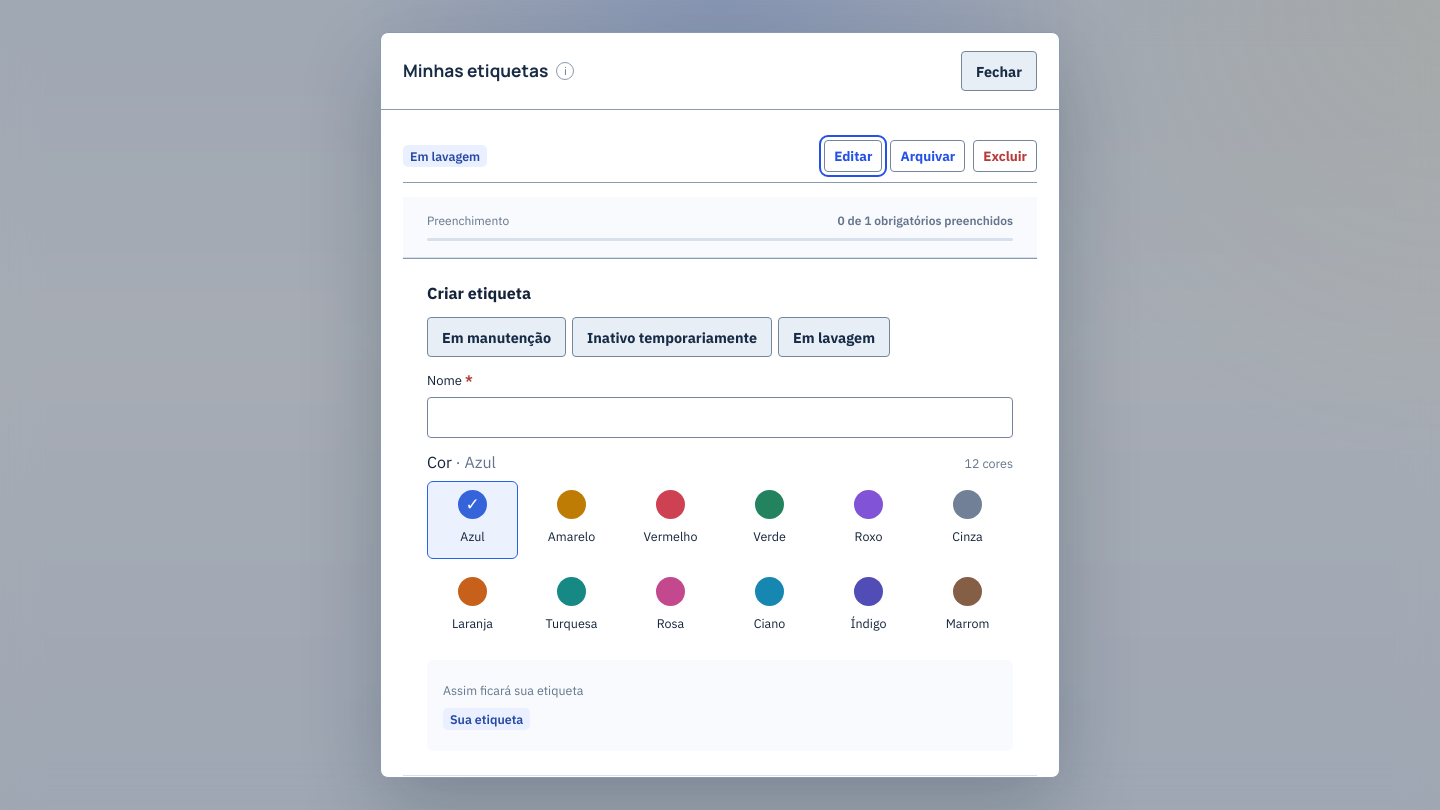
requires explicit confirmation to delete, allows cancellation and clears the editing form
The width and height of the screenshot is (1440, 810).
Click the button "Excluir" at (1005, 156), box [973,140,1037,172]
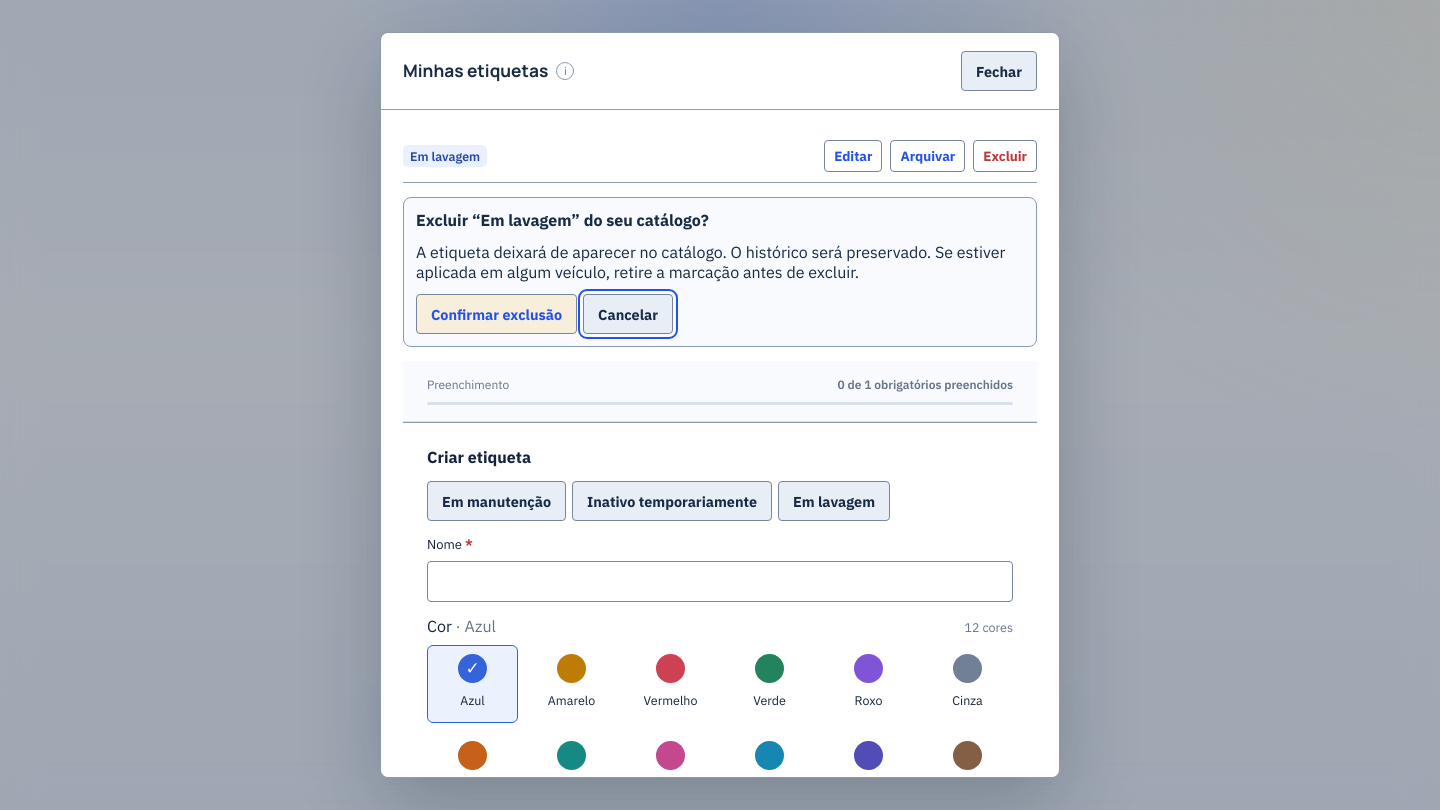
Expected: the element named "Excluir etiqueta Em lavagem" shows "histórico será preservado", [416,242,1005,282]
Click the button "Cancelar" at (628, 314), box [583,294,673,334]
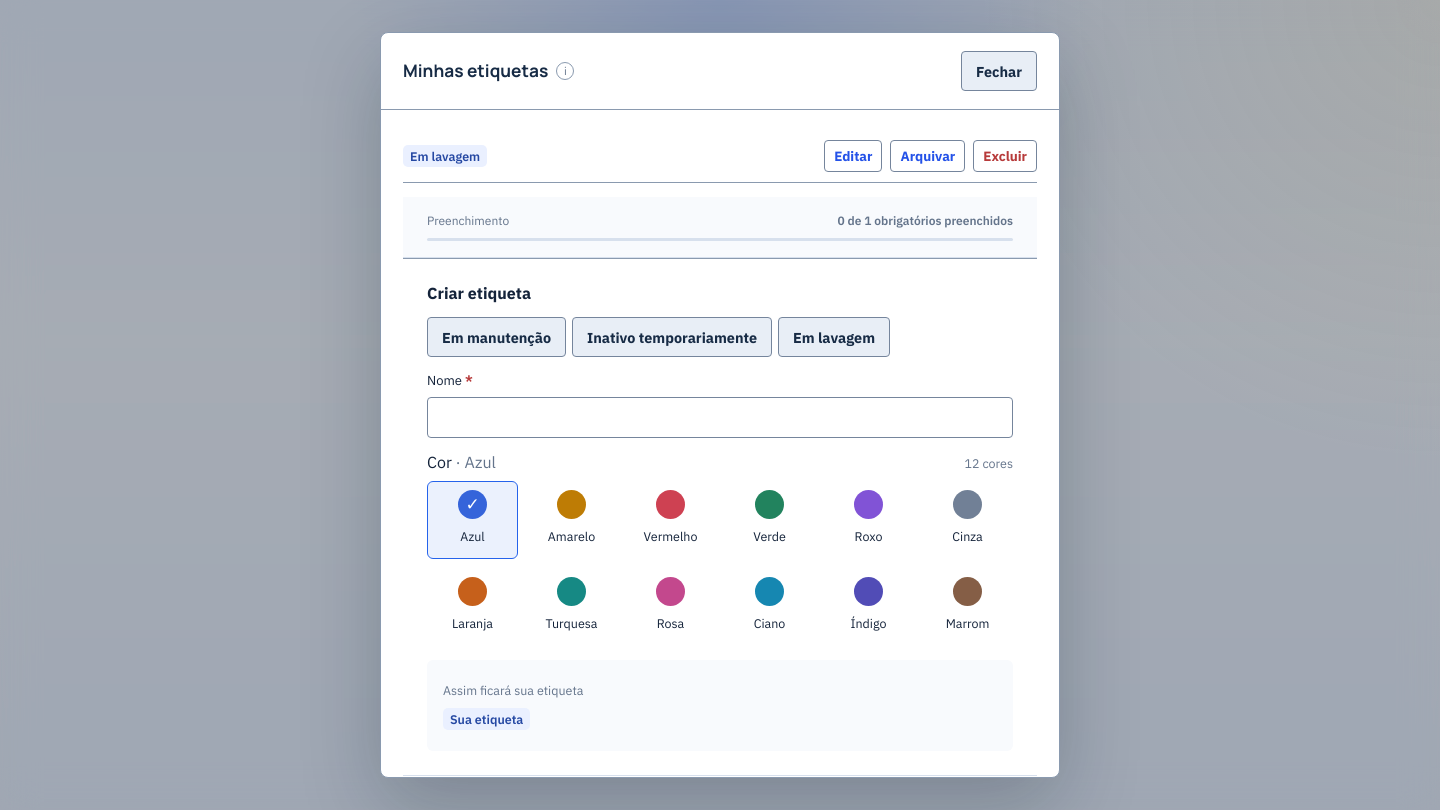
Expected: the button "Confirmar exclusão" is gone
Click the button "Editar" at (853, 156), box [824,140,882,172]
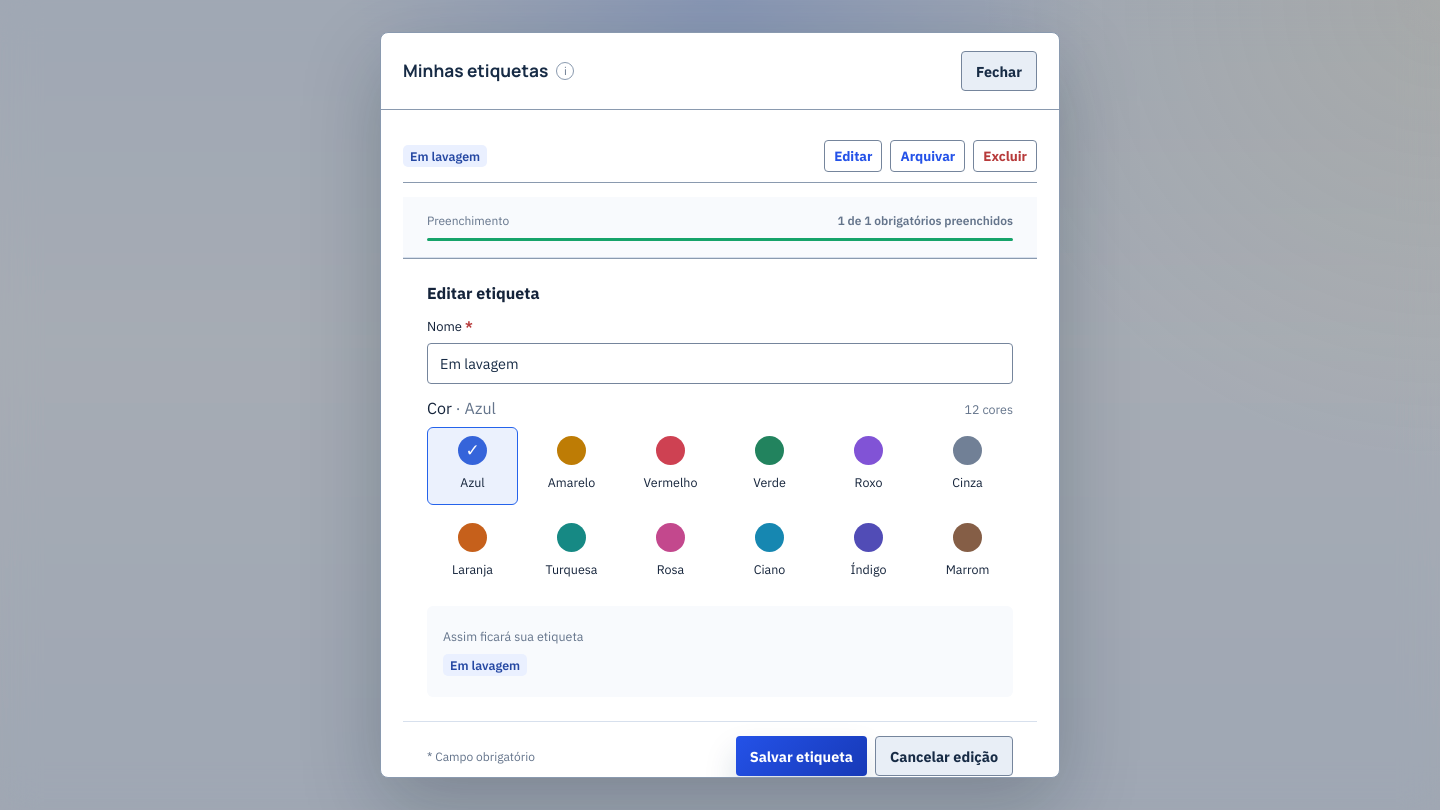
Click the button "Excluir" at (1005, 156), box [973,140,1037,172]
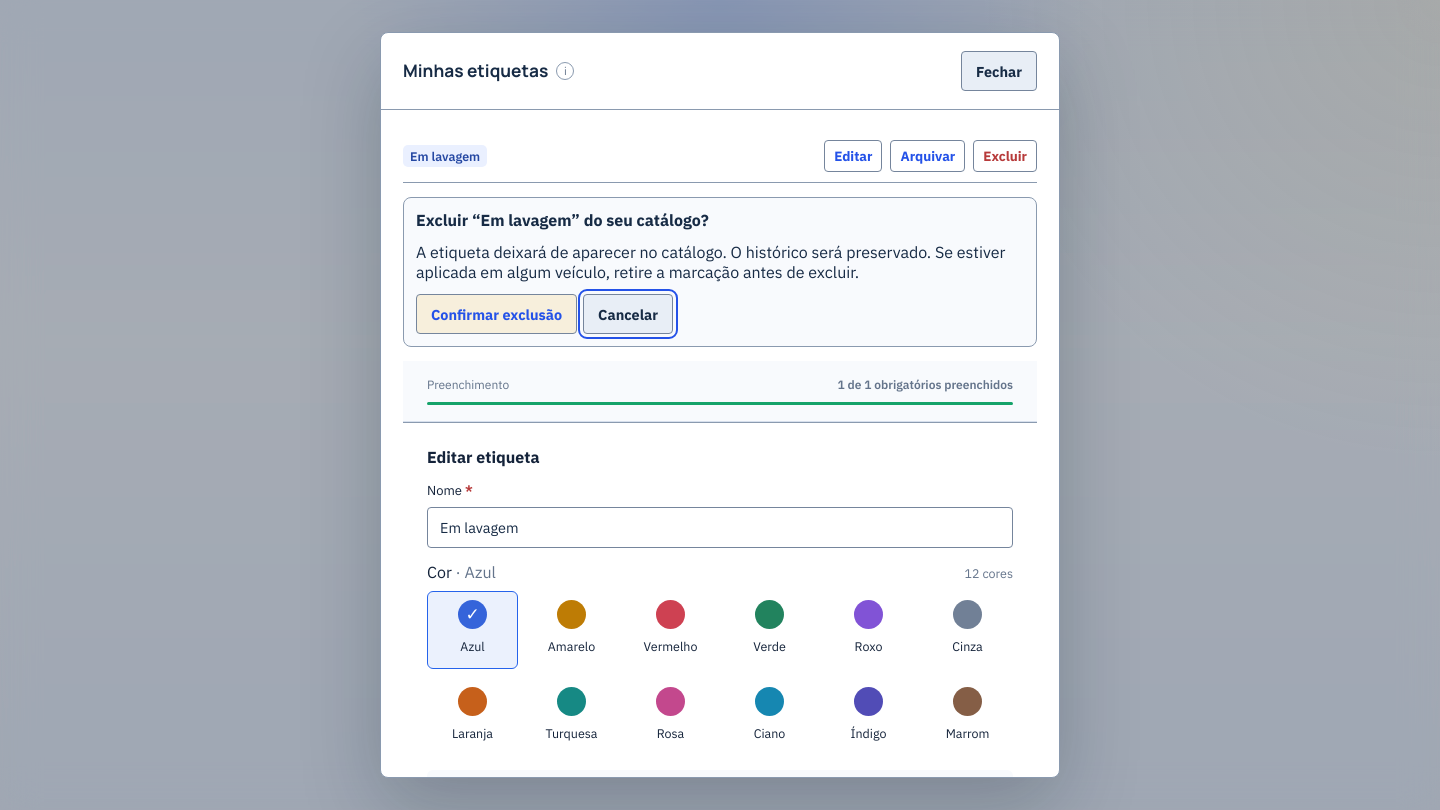
Click the button "Confirmar exclusão" at (497, 314), box [416,294,577,334]
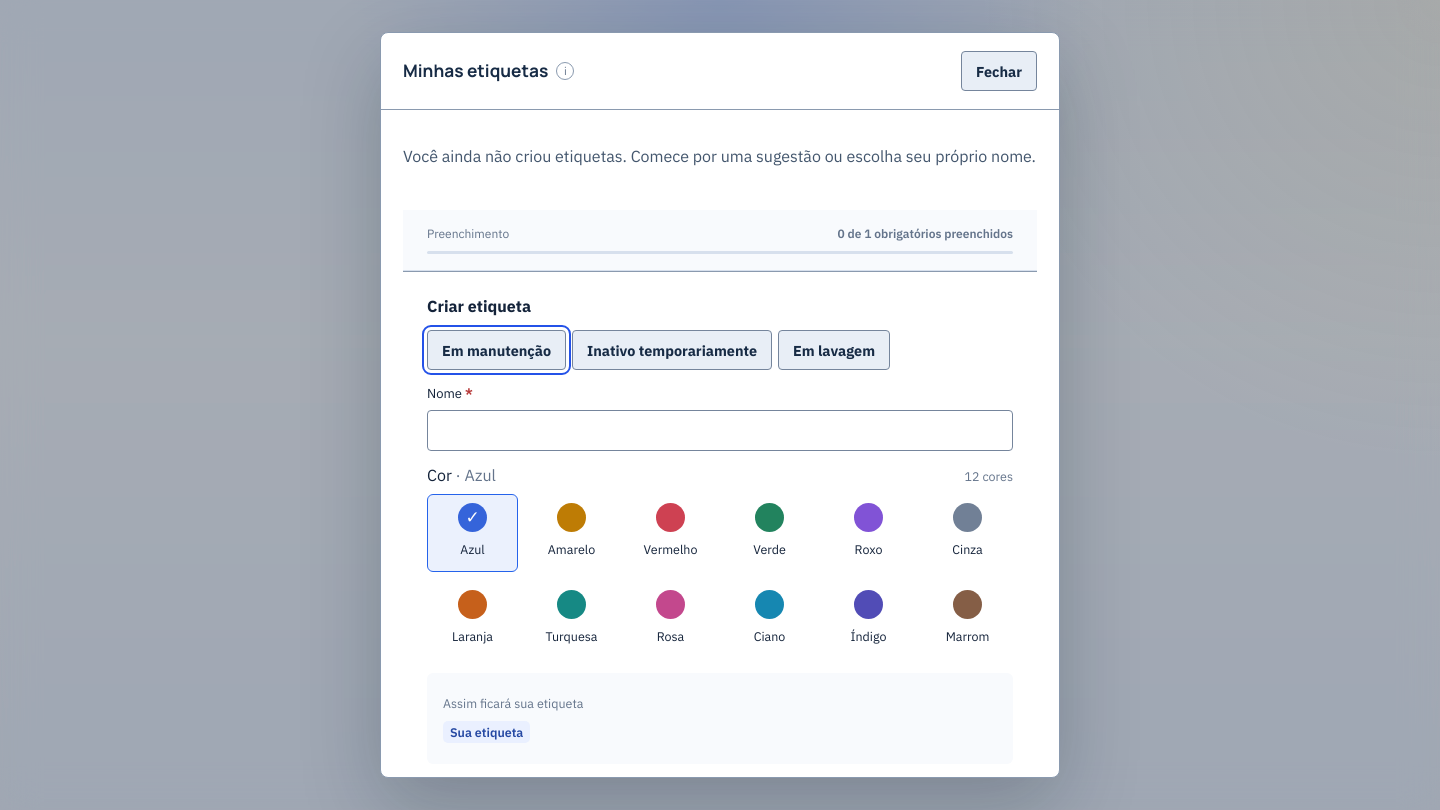
Expected: the button "Excluir" is gone
Expected: the field labelled "Nome" is empty, [427,410,1013,452]
